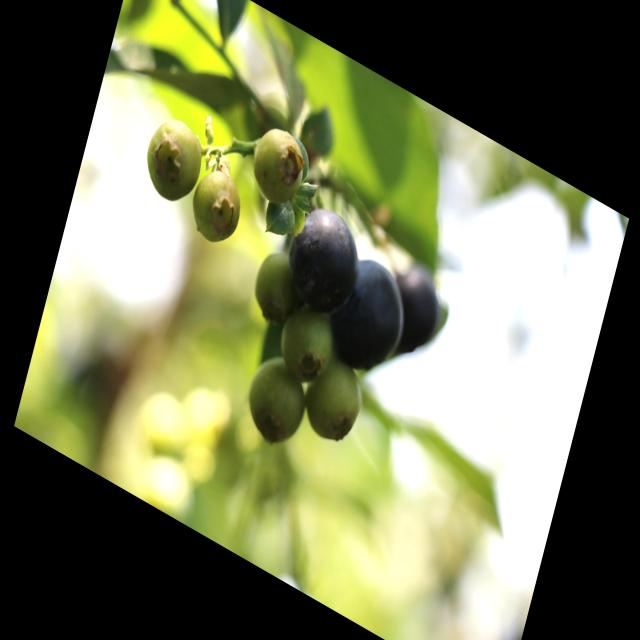blueberry: (323, 244, 413, 384), (277, 192, 367, 326)
blueberry-unripe: (238, 340, 315, 460), (134, 104, 210, 218), (299, 341, 370, 455), (272, 288, 342, 389), (245, 115, 312, 214), (183, 158, 249, 258), (247, 237, 306, 331)
